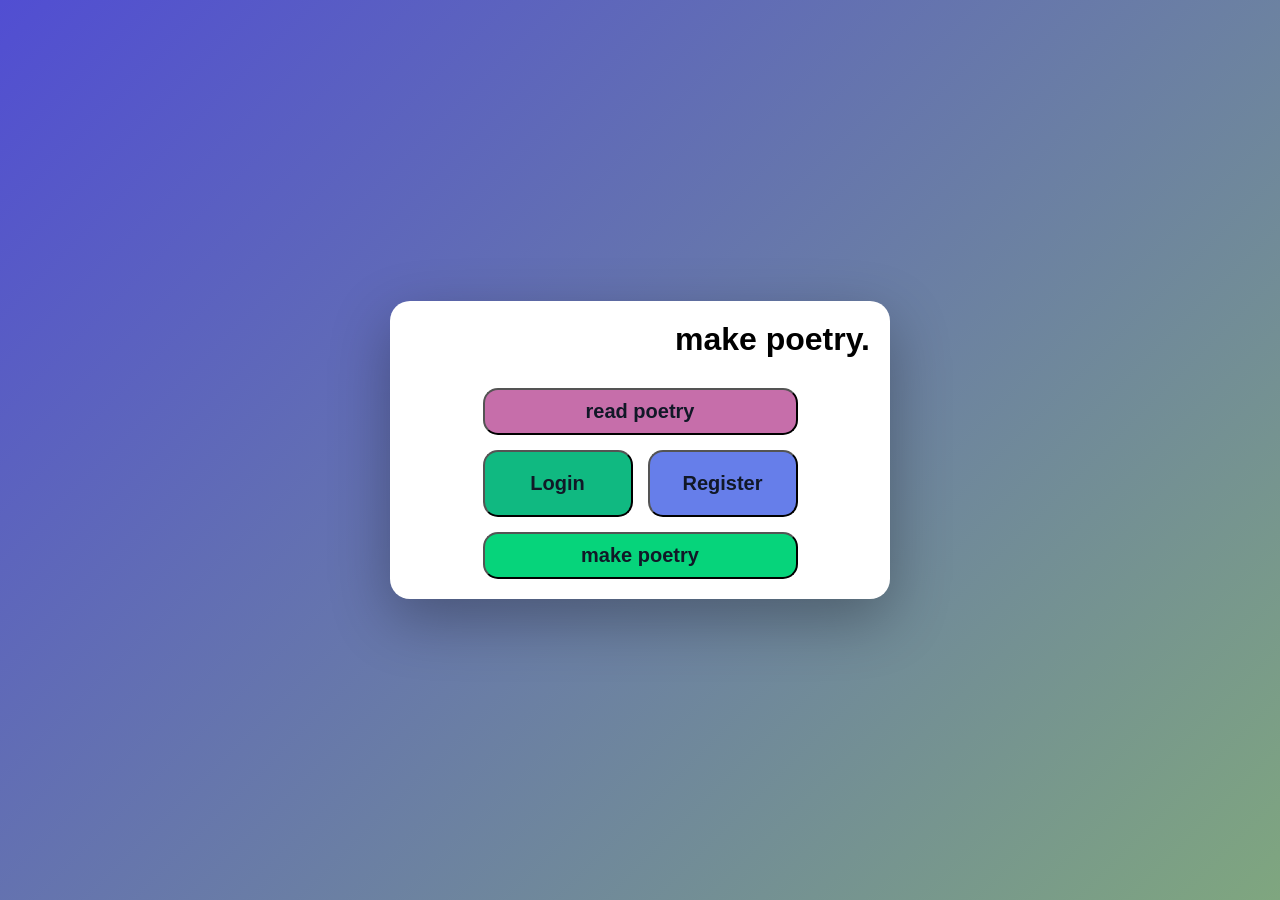
Test: Poetry-App › returns to the dashboard page when user clicks dashboard
Click the button "make poetry" at (640, 556), box [482,532,798,579]
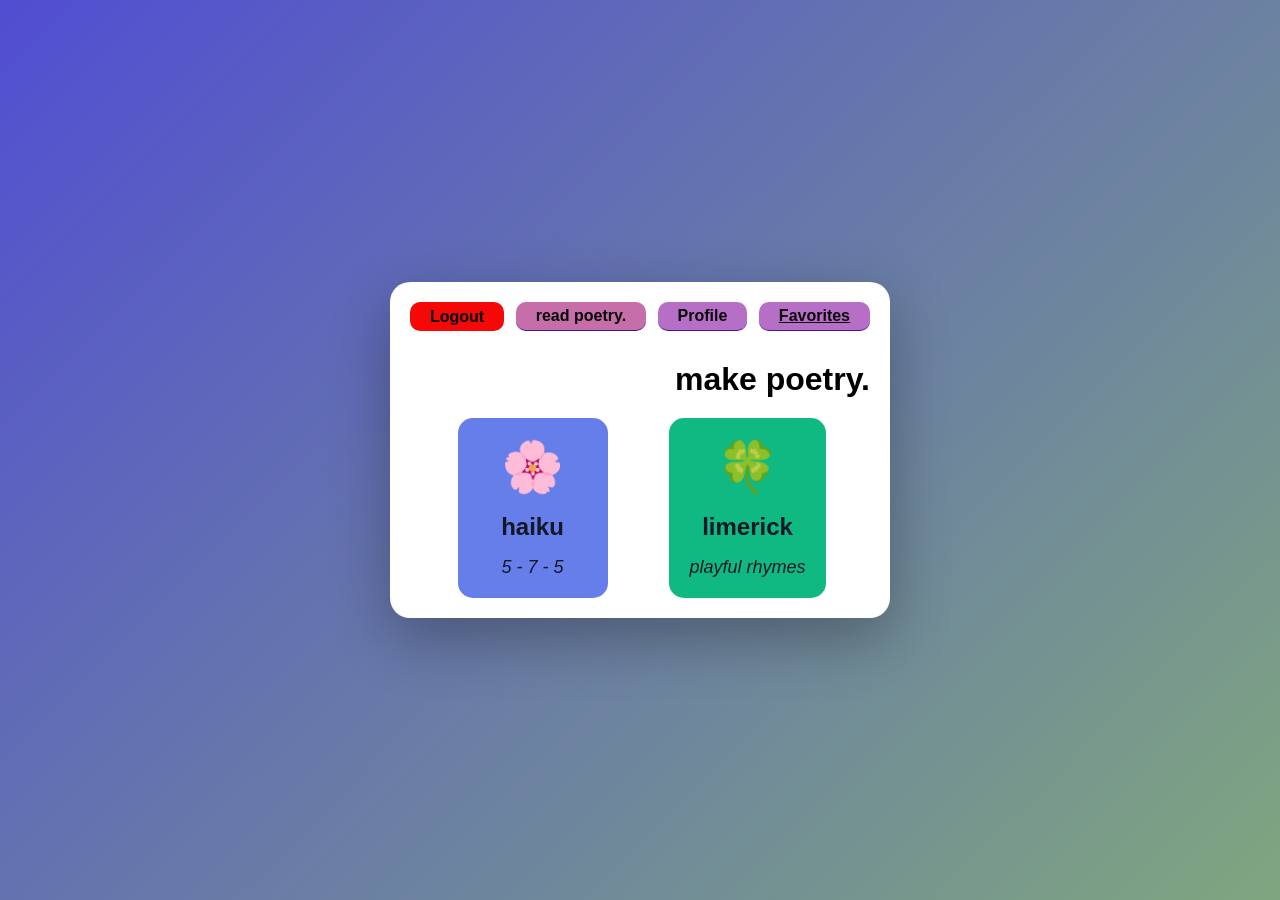
Click the link with aria-label "open haiku editor" at (532, 508), box [458,418,608,598]
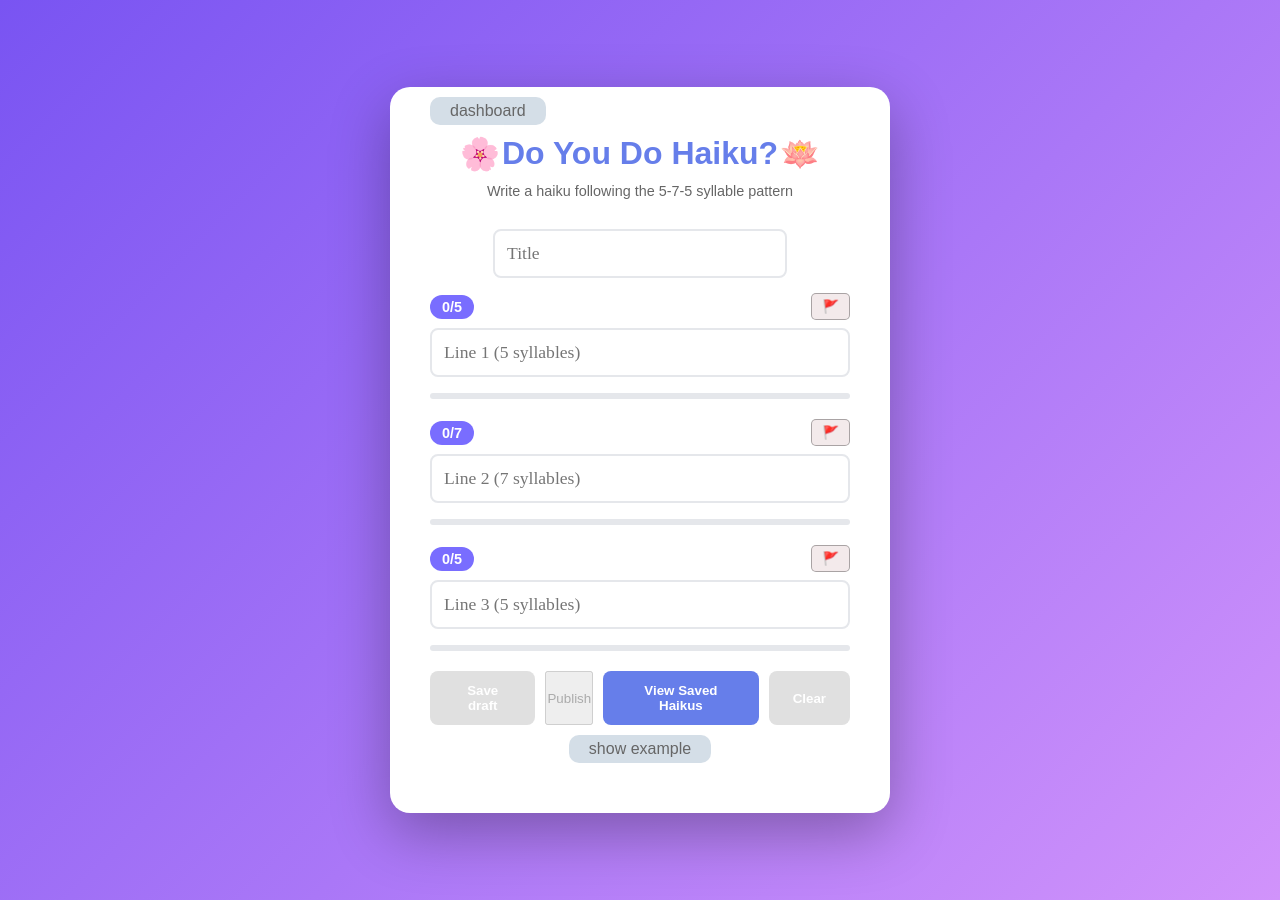
Click the button "dashboard" at (488, 111), box [430,97,546,125]
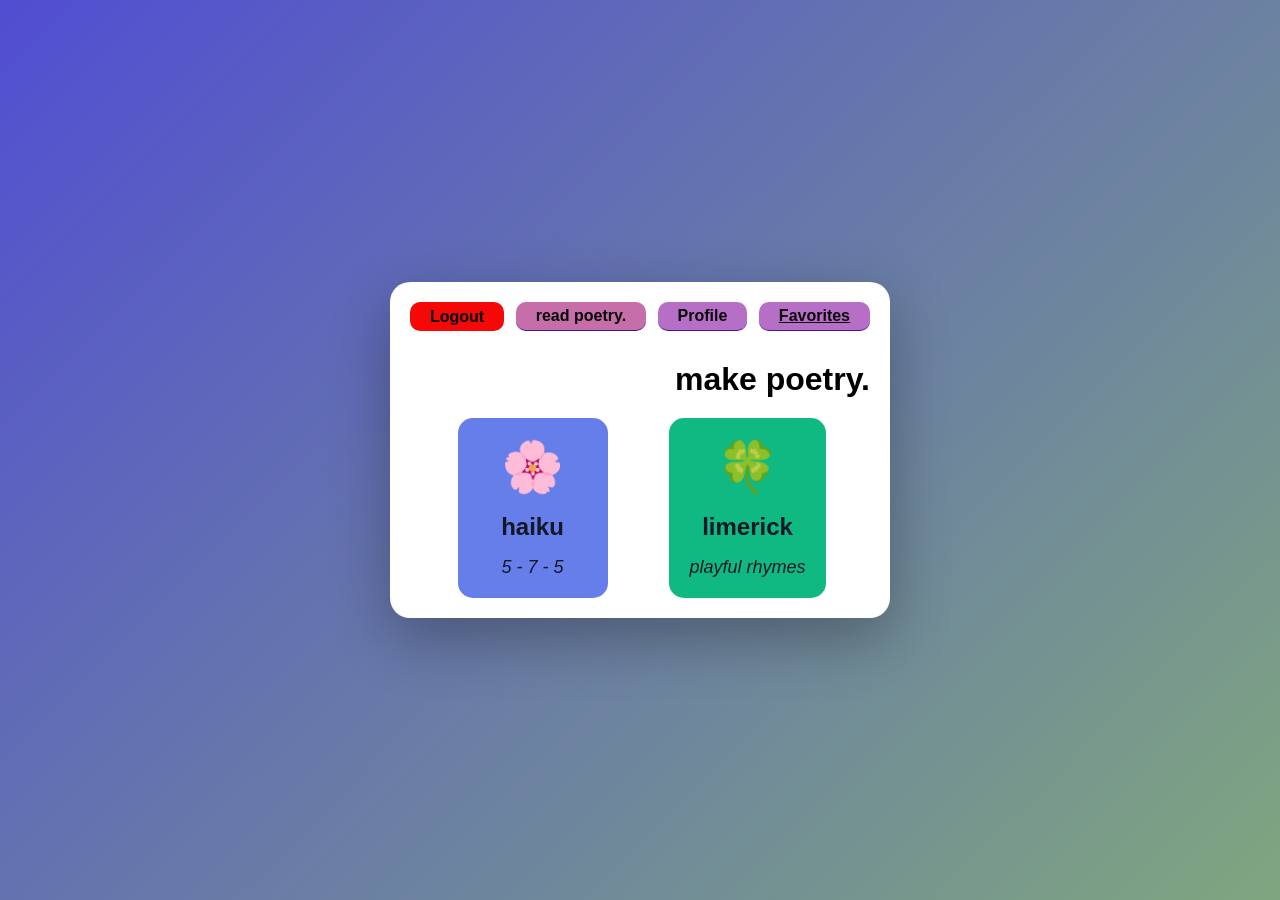
Expected: the heading "make poetry." is shown, [675,361,870,398]
